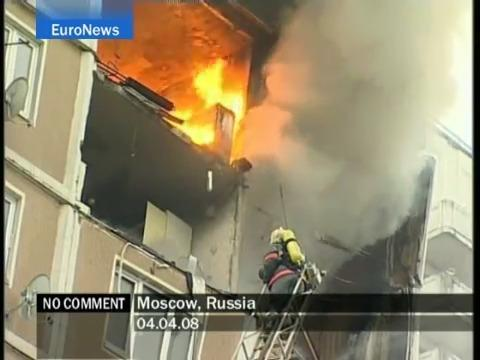fire: (166, 53, 252, 144)
